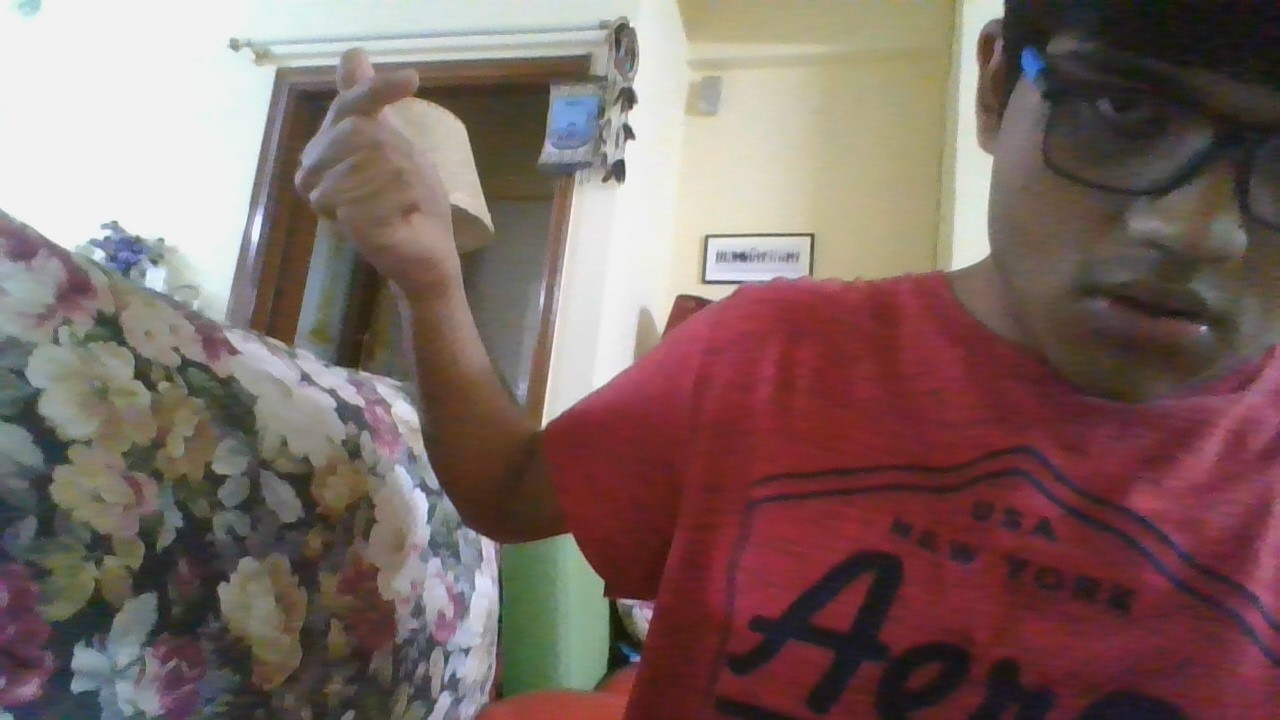eof: (291, 44, 478, 289)
